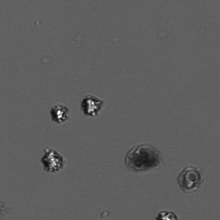Dead Cell: (123, 143, 161, 174), (178, 164, 201, 192)
Living Cell: (39, 148, 66, 174), (79, 93, 104, 117), (48, 103, 69, 123)
